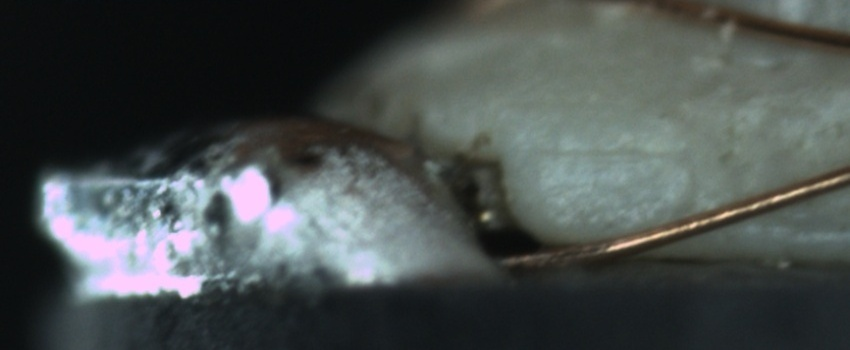DL: (529, 122, 680, 181)
